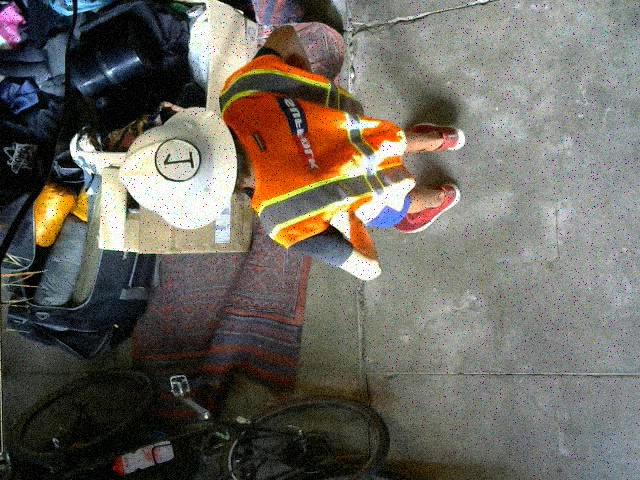one: (155, 138, 200, 180)
